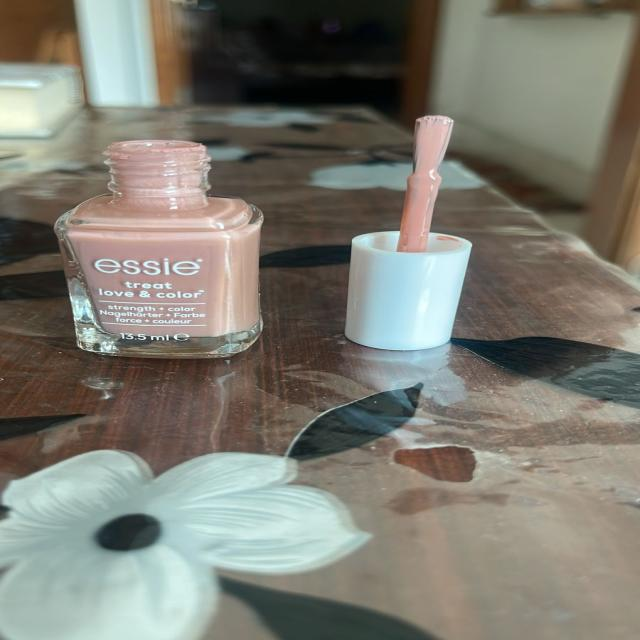brush: (318, 100, 538, 378)
nail polish: (62, 114, 282, 376)
